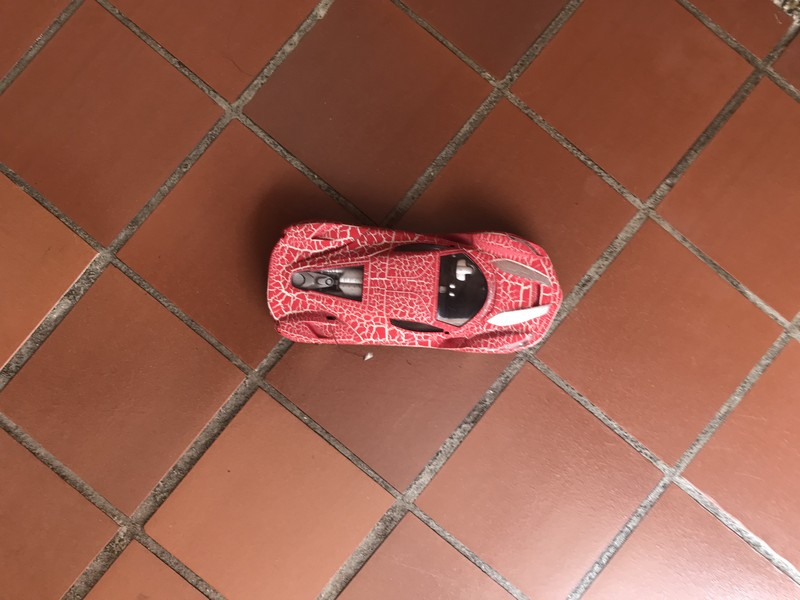RC: (263, 219, 566, 357)
